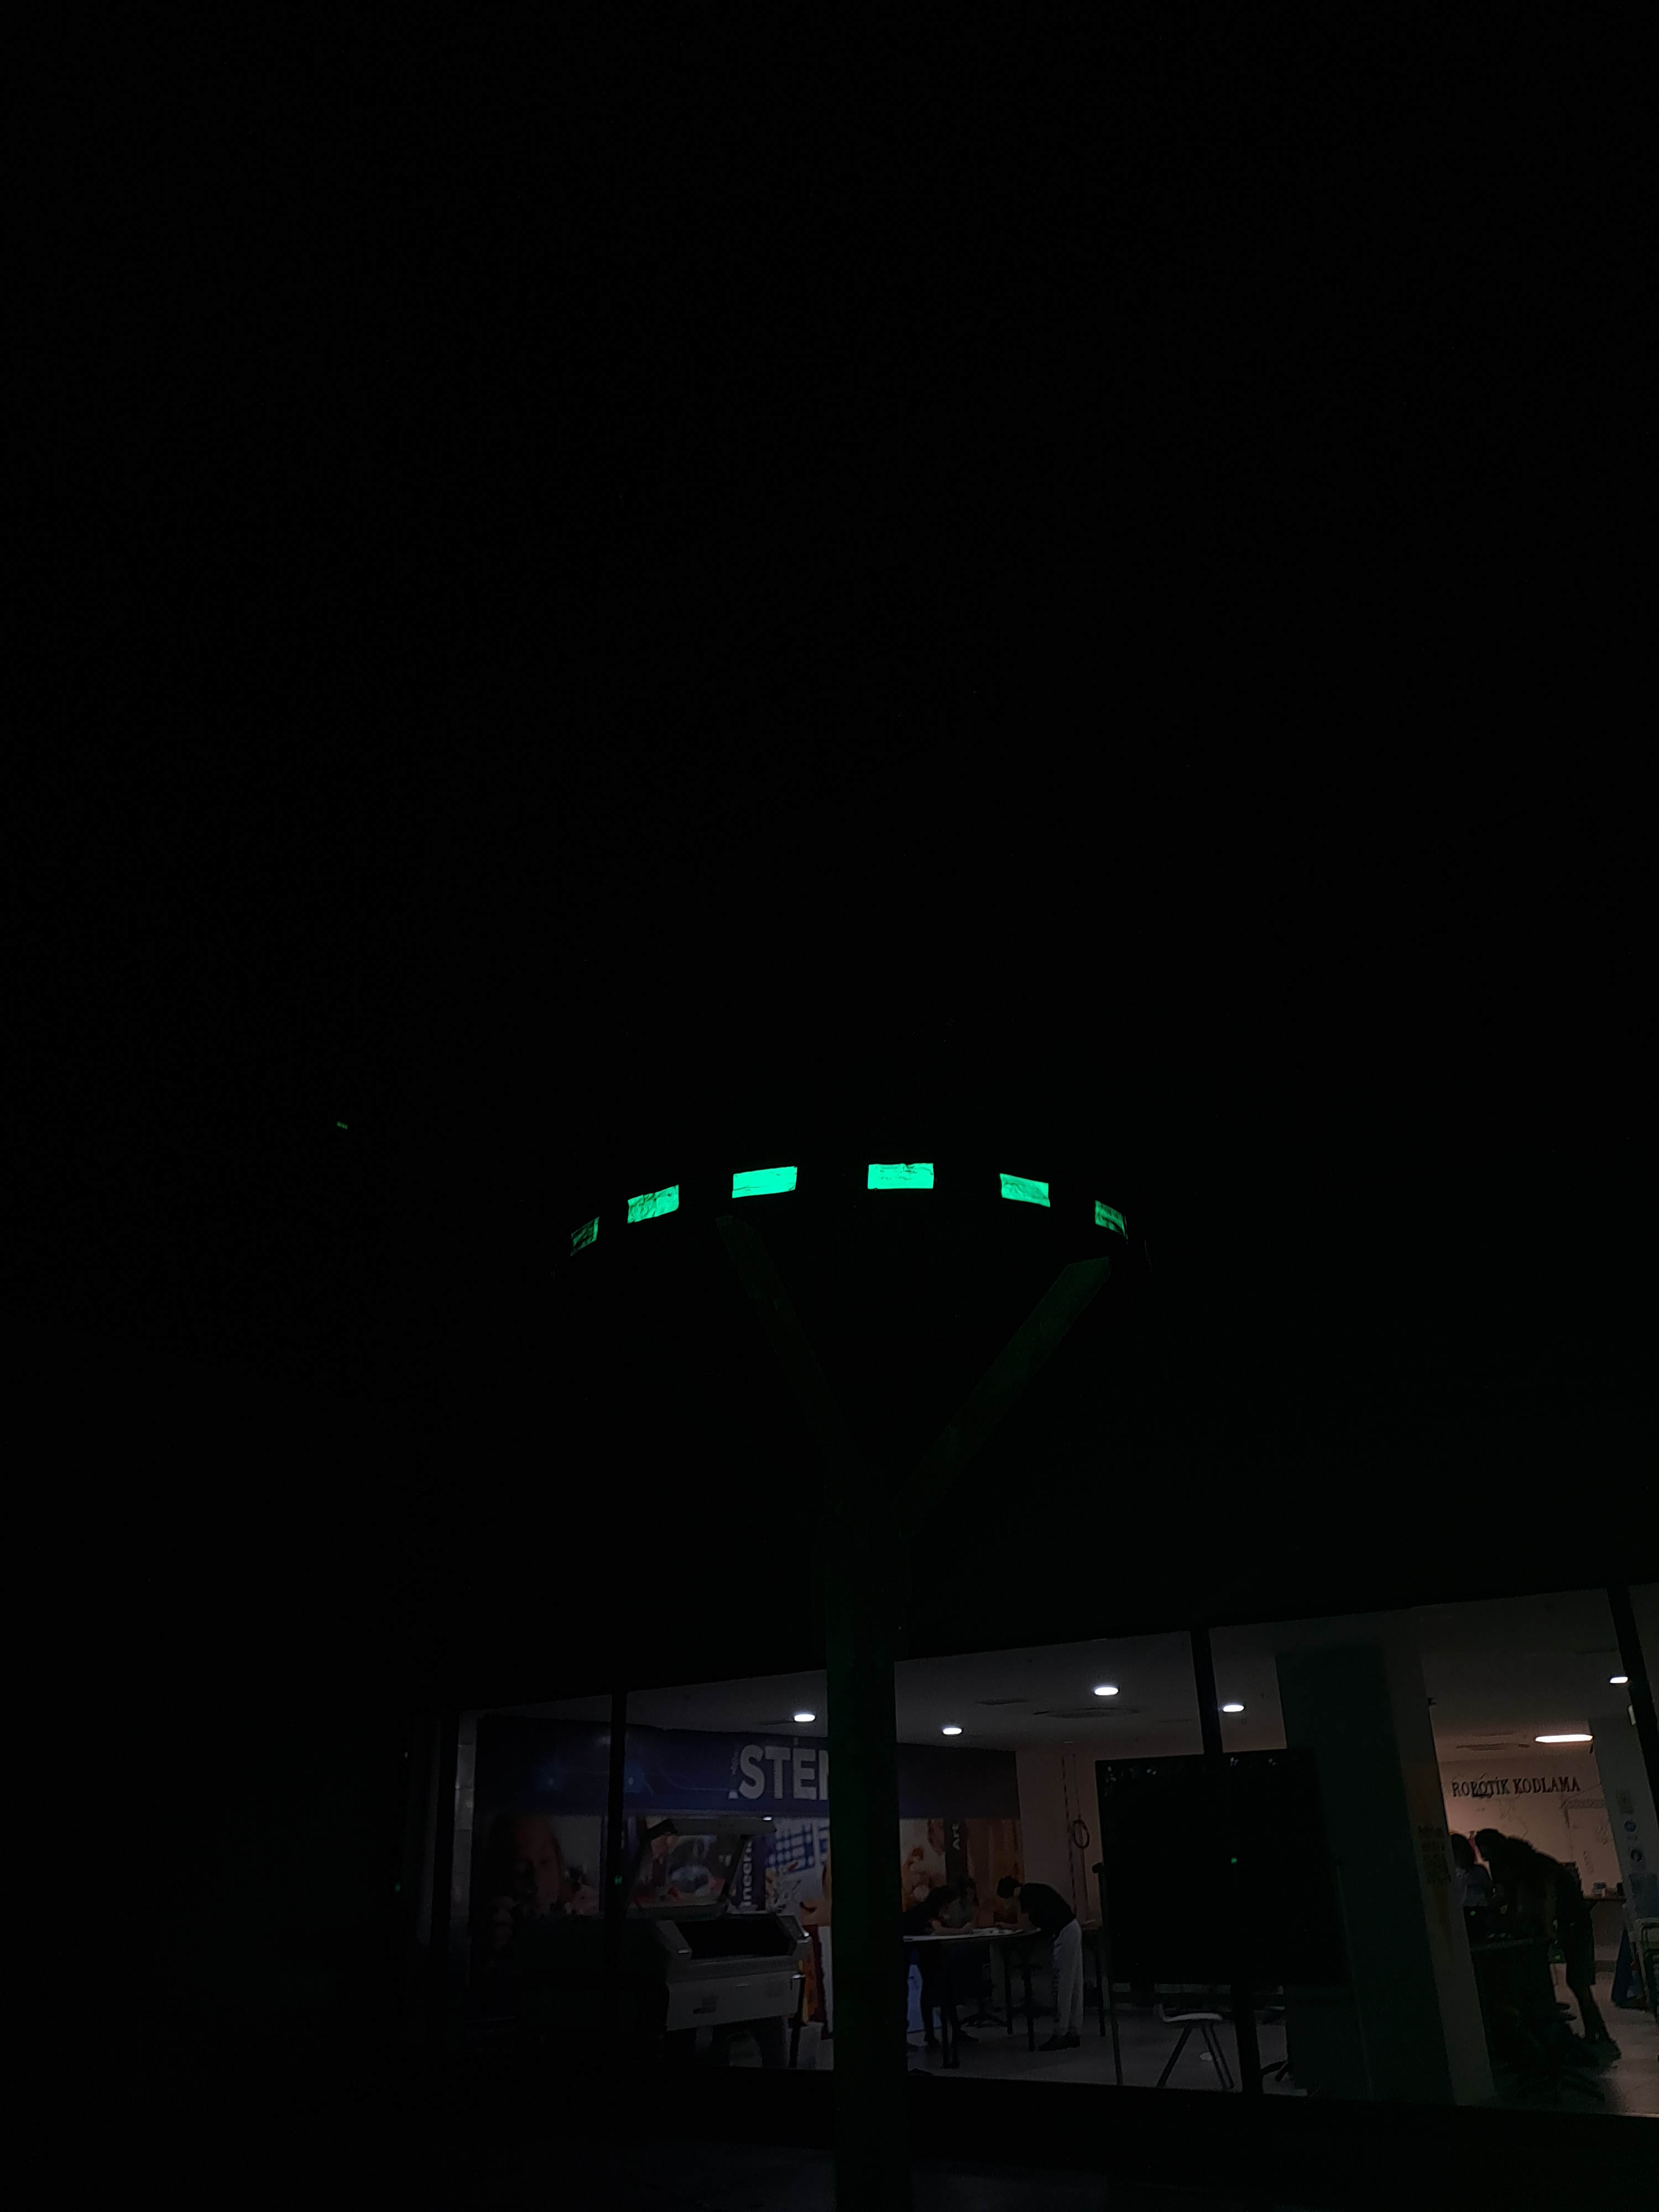hoop: (568, 1158, 1127, 1256)
